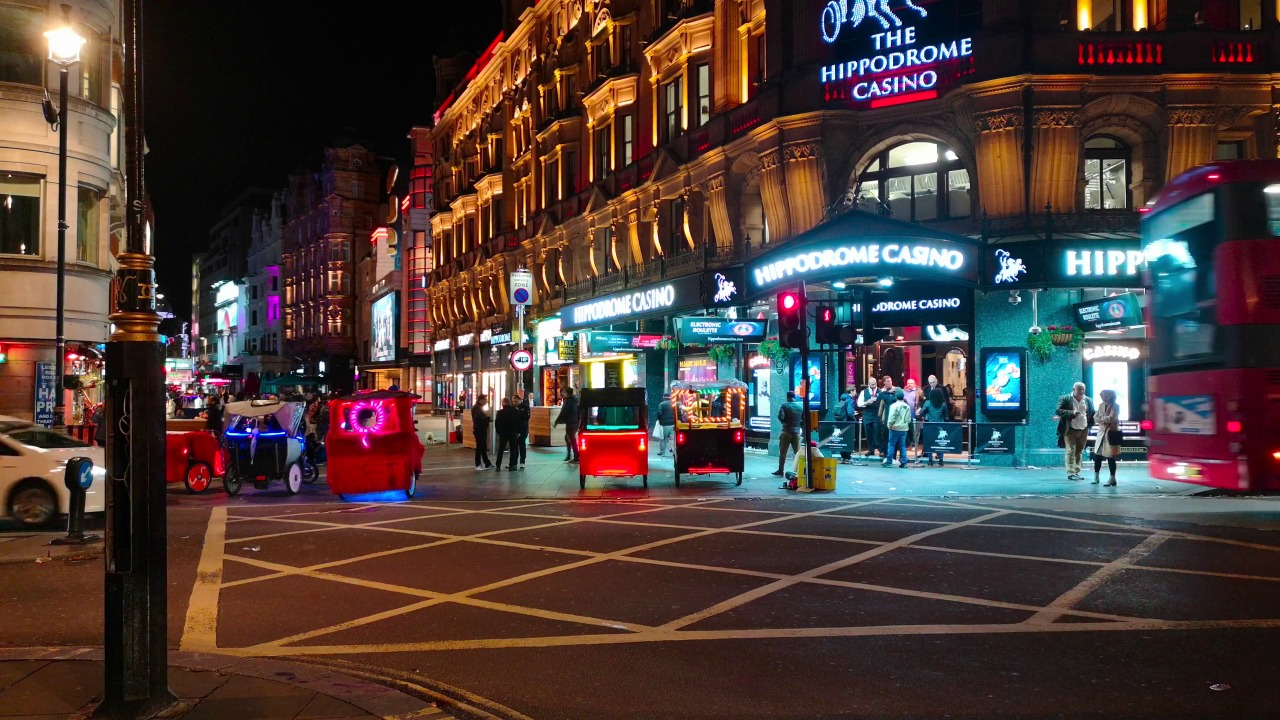car: (1138, 161, 1280, 485), (1, 415, 118, 520), (329, 387, 429, 503), (229, 403, 319, 500), (581, 387, 653, 493), (682, 381, 752, 489), (165, 421, 224, 499)
person: (1052, 380, 1090, 483), (555, 384, 581, 469), (832, 385, 858, 467), (1095, 387, 1115, 492), (922, 388, 948, 465), (775, 390, 798, 473), (885, 391, 910, 467), (859, 371, 881, 454), (786, 439, 820, 491), (495, 398, 518, 471), (471, 395, 491, 471), (651, 393, 673, 459), (515, 396, 532, 472), (905, 377, 921, 407), (921, 372, 944, 387), (880, 373, 894, 390)
